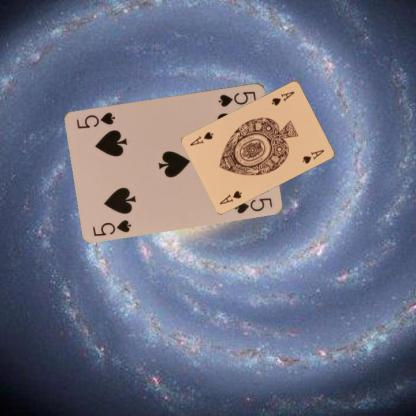5s: (90, 217, 133, 237), (216, 88, 258, 107)
As: (268, 88, 296, 106), (217, 188, 243, 206)
